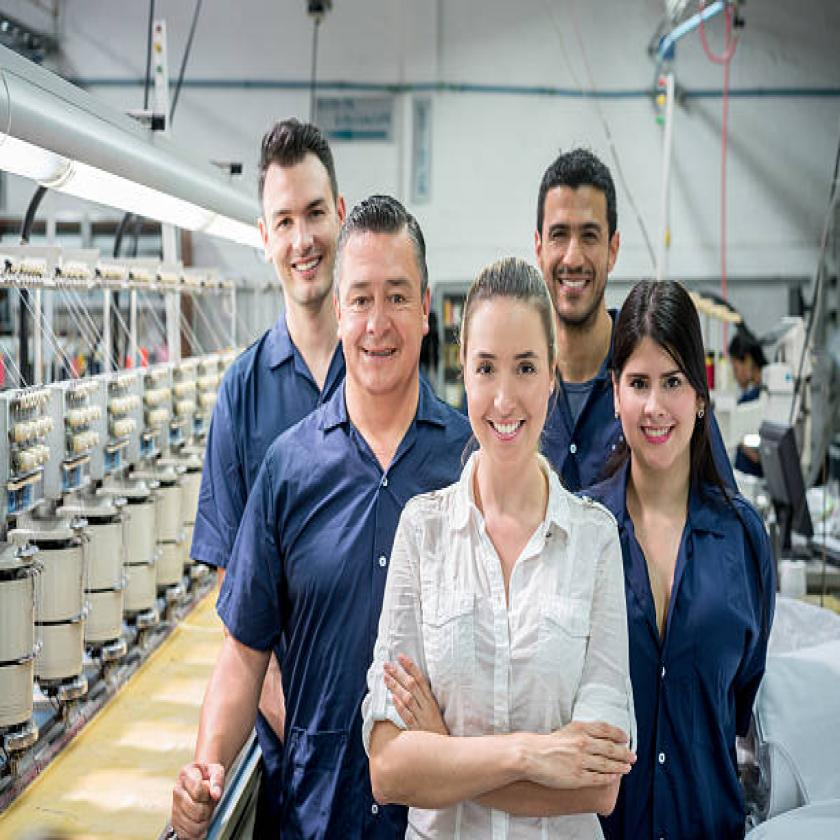Sin_casco: (458, 246, 564, 488), (603, 279, 724, 484), (325, 201, 443, 406), (249, 102, 344, 318), (531, 138, 623, 319)
